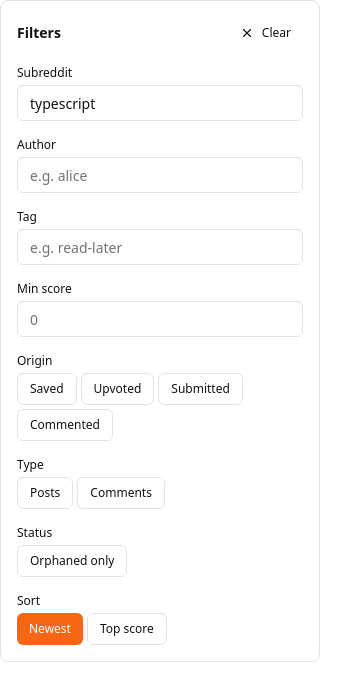
Scenario: FilterPanel › shows Clear button only with active filter and resets all state
Click the button with test id "clear-filters".
click(265, 33)  # box [228,17,303,49]
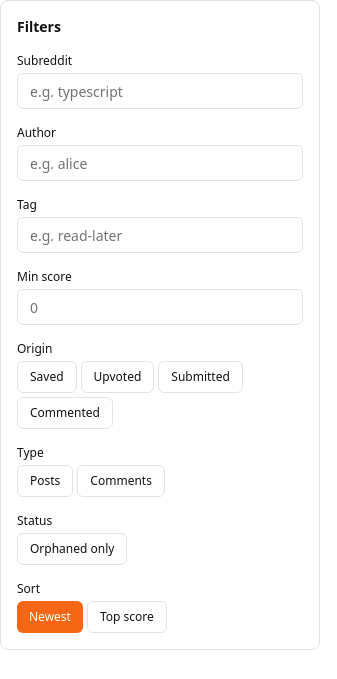
Expected: the field with test id "filter-subreddit" is empty, [17,73,303,109]
